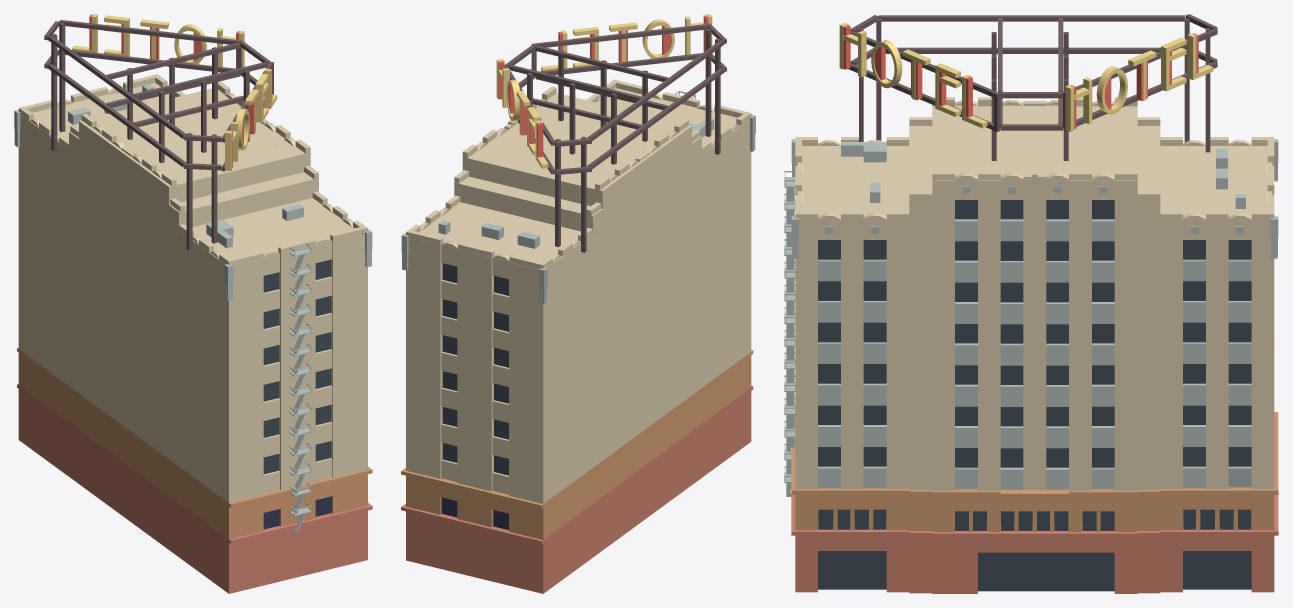
Rendered from hotel_final.fbx.
3 renders of one model, left to right at view 1: azimuth 30°, elevation 25°; view 2: azimuth 150°, elevation 25°; view 3: azimuth 270°, elevation 25°, orthographic. The views are drawn at different scales.
Parts seen in each view (by area): view 1: pCube2976, pCube3454, pCube1697, pCube1586, pCube1311, pCube2116, pCube2918, pCube2003, pCube2524, pCube2298, pCube4908, pCube2984 (+134 smaller); view 2: pCube3417, pCube3442, pCube3448, pCube4872, pCube3420, pCube1579, pCube1692, pCube2916, pCube1309, pCube2519, pCube2180, pCube2293 (+142 smaller); view 3: pCube3454, pCube3415, pCube3543, pCube3544, pCube3545, pCube3418, pCube3542, pCube3419, pCube3417, pCube2964, pCube3519, pCube1552 (+122 smaller).
Boxes of the visible parts, x1=… form: pCube2976: x1=209, y1=244, x2=263, y2=303; pCube3454: x1=313, y1=218, x2=372, y2=277; pCube1697: x1=209, y1=470, x2=265, y2=521; pCube1586: x1=209, y1=507, x2=265, y2=557; pCube1311: x1=209, y1=543, x2=263, y2=593; pCube2116: x1=209, y1=398, x2=263, y2=448; pCube2918: x1=209, y1=289, x2=263, y2=339; pCube2003: x1=209, y1=434, x2=263, y2=484; pCube2524: x1=209, y1=325, x2=263, y2=375; pCube2298: x1=209, y1=362, x2=263, y2=412; pCube4908: x1=149, y1=165, x2=203, y2=222; pCube2984: x1=244, y1=235, x2=298, y2=292; pCube3417: x1=454, y1=144, x2=509, y2=209; pCube3442: x1=561, y1=175, x2=612, y2=233; pCube3448: x1=509, y1=255, x2=553, y2=306; pCube4872: x1=490, y1=159, x2=541, y2=217; pCube3420: x1=401, y1=224, x2=449, y2=281; pCube1579: x1=507, y1=514, x2=553, y2=557; pCube1692: x1=507, y1=478, x2=553, y2=521; pCube2916: x1=509, y1=298, x2=553, y2=342; pCube1309: x1=509, y1=549, x2=553, y2=593; pCube2519: x1=509, y1=334, x2=553, y2=378; pCube2180: x1=509, y1=406, x2=553, y2=449; pCube2293: x1=509, y1=370, x2=553, y2=414; pCube3454: x1=791, y1=195, x2=840, y2=261; pCube3415: x1=1069, y1=159, x2=1114, y2=221; pCube3543: x1=932, y1=159, x2=977, y2=221; pCube3544: x1=978, y1=159, x2=1023, y2=221; pCube3545: x1=1023, y1=159, x2=1068, y2=220; pCube3418: x1=1160, y1=201, x2=1205, y2=261; pCube3542: x1=841, y1=201, x2=886, y2=261; pCube3419: x1=1206, y1=201, x2=1251, y2=261; pCube3417: x1=1114, y1=159, x2=1160, y2=221; pCube2964: x1=886, y1=201, x2=932, y2=262; pCube3519: x1=1160, y1=509, x2=1214, y2=550; pCube1552: x1=932, y1=511, x2=986, y2=552.
Size of the model in its own units: 18.14 by 47.92 by 42.64.
